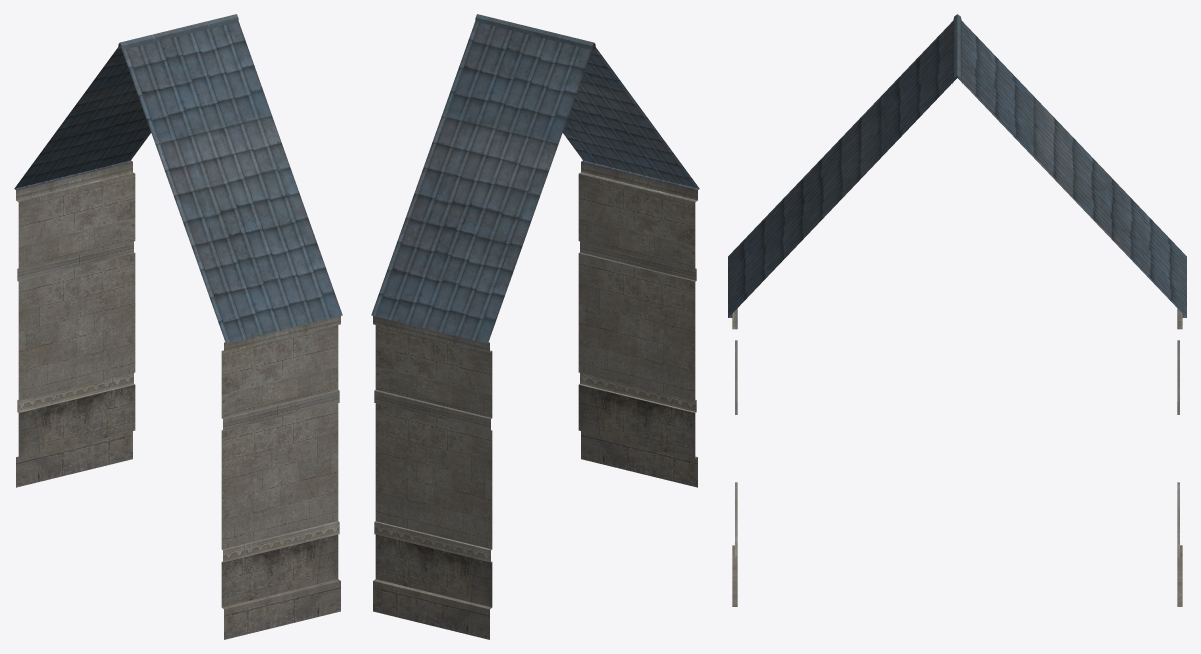
The model's file is bg_lut_lucastle_house02_sm_sup.FBX.
3 views of the same model, side by side, from view 1: azimuth 30°, elevation 25°; view 2: azimuth 150°, elevation 25°; view 3: azimuth 270°, elevation 25° (orthographic). The views are drawn at different scales.
Parts seen in each view (by area): view 1: bg_lut_lucastle_house02_sm_sup; view 2: bg_lut_lucastle_house02_sm_sup; view 3: bg_lut_lucastle_house02_sm_sup.
Part boxes in pixels (bbox=[...]): bg_lut_lucastle_house02_sm_sup: bbox=[14, 14, 342, 639]; bg_lut_lucastle_house02_sm_sup: bbox=[371, 14, 699, 639]; bg_lut_lucastle_house02_sm_sup: bbox=[728, 14, 1186, 606].
Size of the model in its own units: 160 by 683 by 503.
